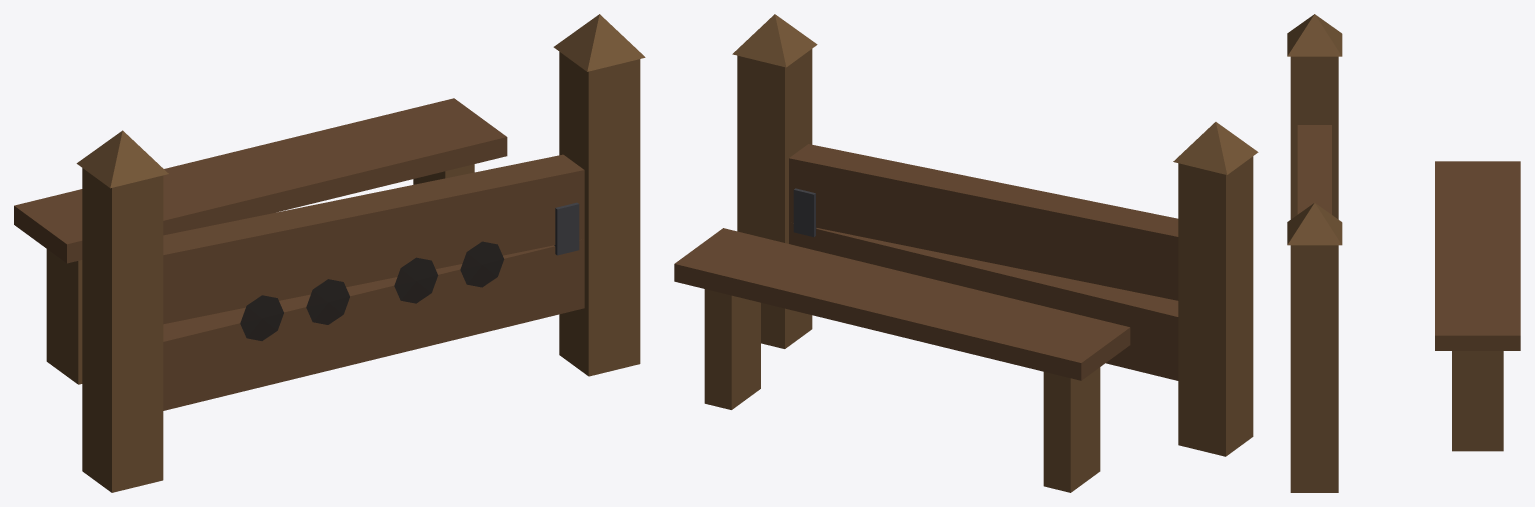
The model's file is Stocks.fbx.
3 renders of one model, left to right at view 1: azimuth 30°, elevation 25°; view 2: azimuth 150°, elevation 25°; view 3: azimuth 270°, elevation 25°, orthographic. The views are drawn at different scales.
Visible parts, largest first — view 1: Stocks; view 2: Stocks; view 3: Stocks.
Boxes of the visible parts, x1,y1,x2,y2 form: Stocks: (14, 14, 645, 492); Stocks: (674, 14, 1258, 492); Stocks: (1287, 14, 1520, 492).
Size of the model in its own units: 1.46 by 0.9 by 0.68.
